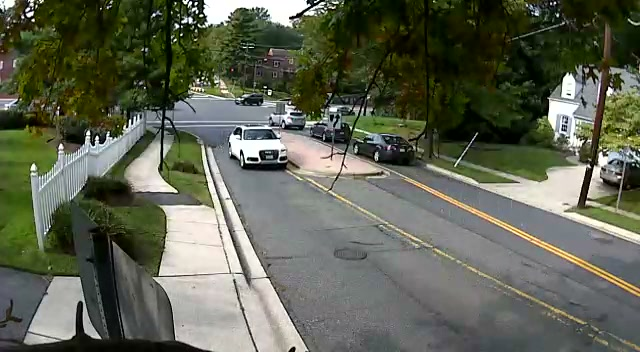car: (228, 127, 288, 169), (348, 132, 415, 165), (600, 149, 640, 190), (309, 120, 351, 143), (269, 109, 306, 130), (281, 111, 306, 130), (239, 93, 264, 106)
